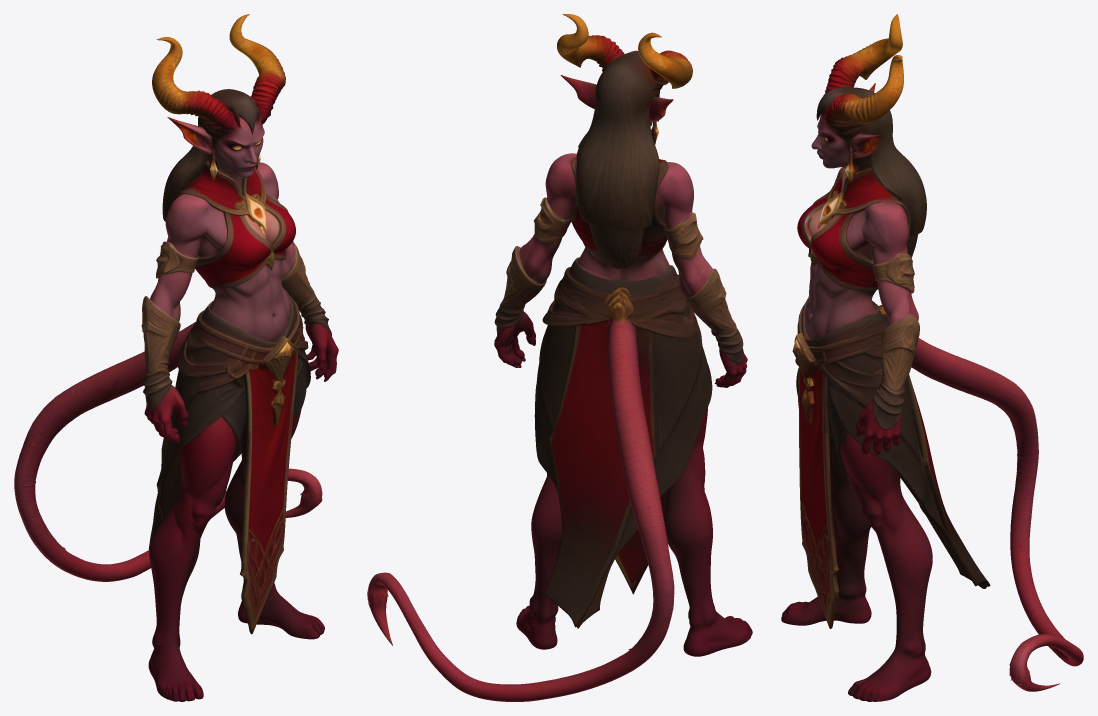
Rendered from tiefling_cleric_full_female_01.glb.
The picture shows the model from 3 angles, left to right: view 1: azimuth 30°, elevation 25°; view 2: azimuth 150°, elevation 25°; view 3: azimuth 270°, elevation 25°; orthographic projection. The views are drawn at different scales.
Parts seen in each view (by area): view 1: material; view 2: material; view 3: material.
Boxes of the visible parts, left/top/right/bottom form: material: left=14, top=14, right=338, bottom=701; material: left=367, top=14, right=752, bottom=701; material: left=781, top=14, right=1083, bottom=701.
Bounding box in the file's own units: 0.5384 × 1.05 × 0.4673.
1 material, 1 textured.
